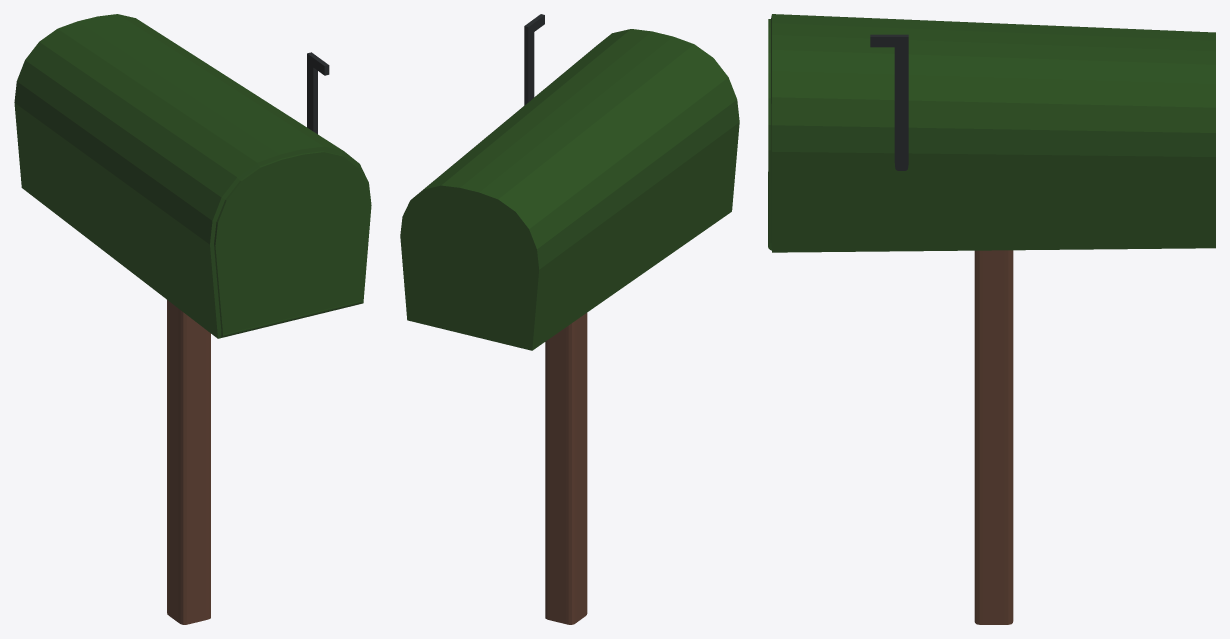
Rendered from mailbox.glb.
3 views of the same model, side by side, from view 1: azimuth 30°, elevation 25°; view 2: azimuth 150°, elevation 25°; view 3: azimuth 270°, elevation 25° (orthographic). The views are drawn at different scales.
Parts seen in each view (by area): view 1: Cube.001, Cube.002, Cube, Cube.003, Cylinder; view 2: Cube.001, Cube, Cube.003; view 3: Cube.001, Cube, Cube.003, Cube.002.
Boxes of the visible parts, x1,y1,x2,y2 form: Cube.001: [14, 14, 371, 338]; Cube.002: [214, 151, 369, 334]; Cube: [167, 300, 210, 624]; Cube.003: [307, 52, 329, 134]; Cylinder: [221, 300, 361, 337]; Cube.001: [400, 29, 739, 350]; Cube: [545, 313, 587, 624]; Cube.003: [524, 14, 544, 105]; Cube.001: [771, 14, 1215, 252]; Cube: [974, 250, 1013, 624]; Cube.003: [870, 34, 908, 170]; Cube.002: [768, 19, 771, 244].
Bounding box in the file's own units: 3.49 × 11.61 × 7.55.
